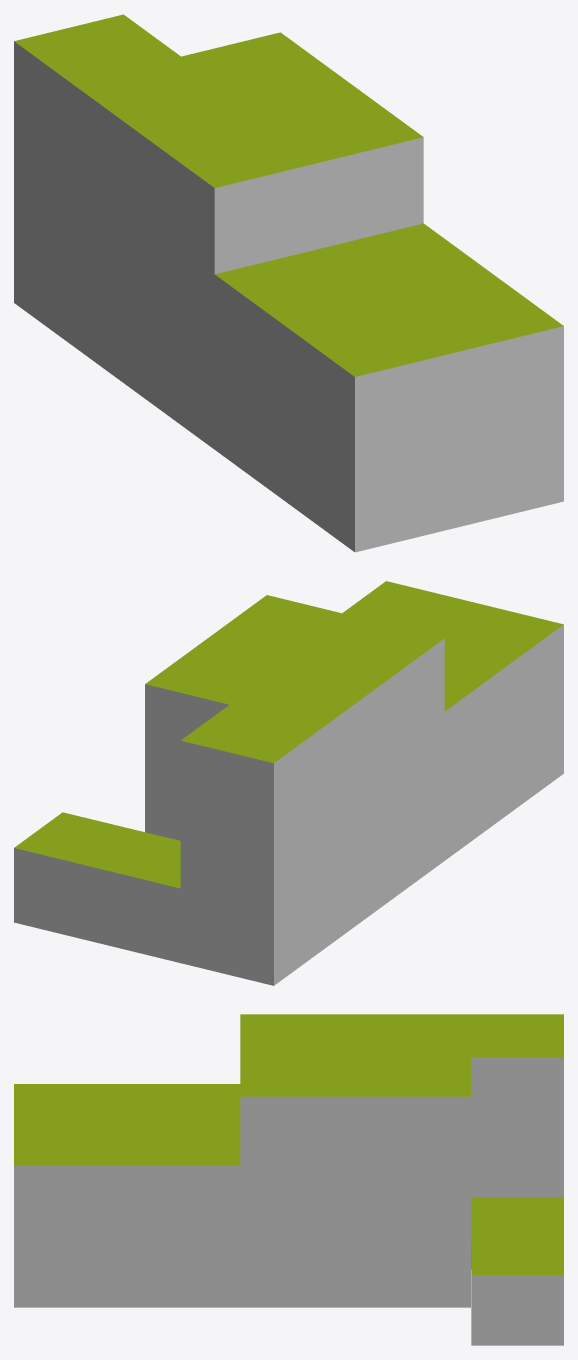
File: terrainIzq.fbx
3 renders of one model, top to bottom at view 1: azimuth 30°, elevation 25°; view 2: azimuth 150°, elevation 25°; view 3: azimuth 270°, elevation 25°, orthographic. The views are drawn at different scales.
Parts seen in each view (by area): view 1: Cube.011; view 2: Cube.011; view 3: Cube.011.
Part boxes in pixels (box(x1,y1,x2,y2)): Cube.011: box(14, 14, 563, 552); Cube.011: box(14, 581, 563, 985); Cube.011: box(14, 1014, 563, 1345).
Bounding box in the file's own units: 13.14 × 10.75 × 25.4.
